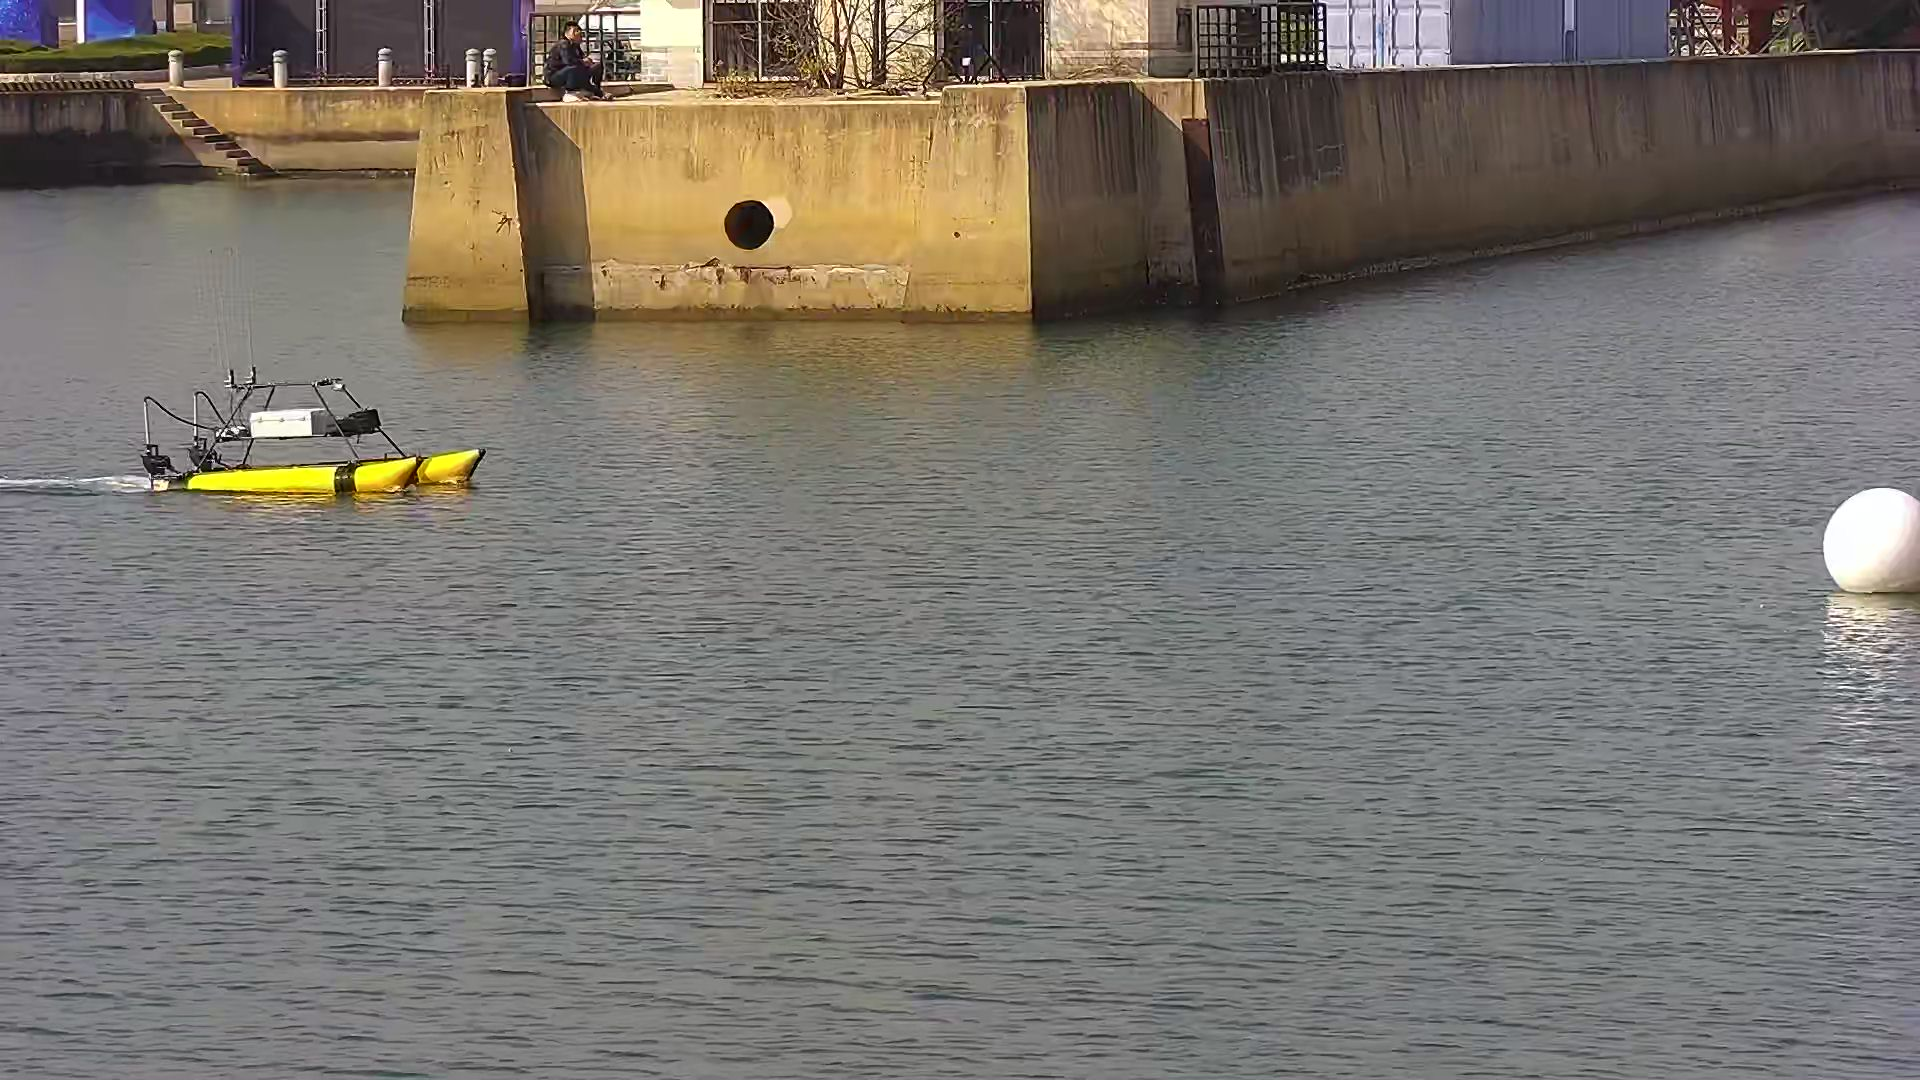ball: (1815, 483, 1920, 589)
boat: (137, 367, 483, 504)
